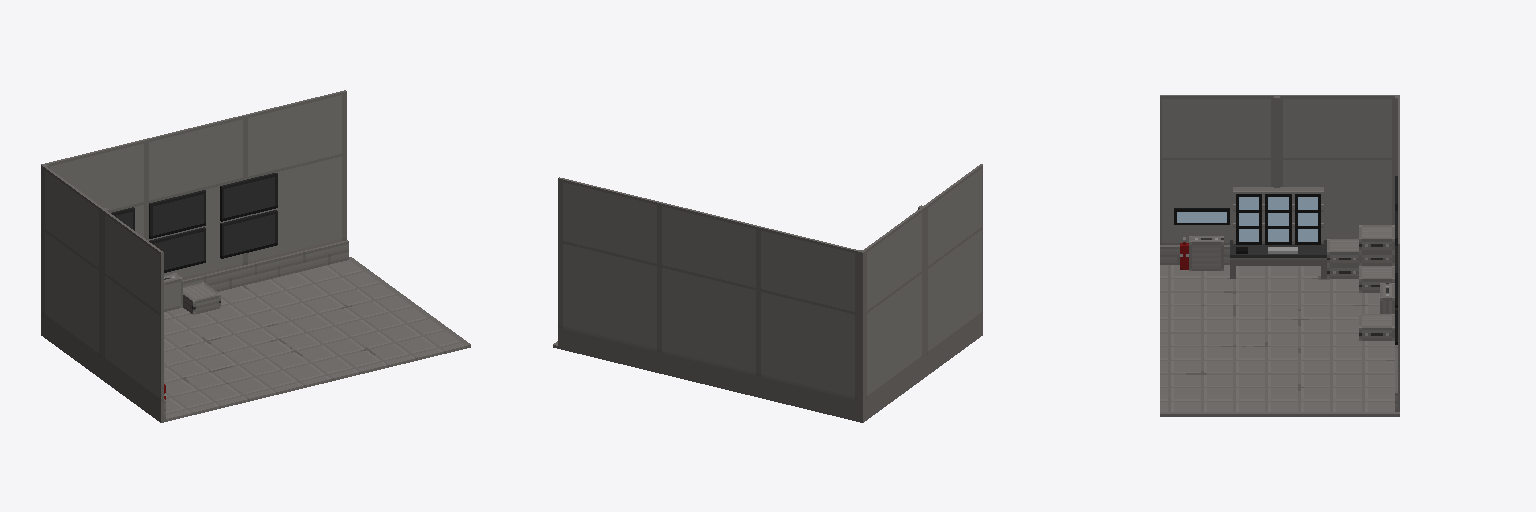
3 views of the same model, side by side, from view 1: azimuth 30°, elevation 25°; view 2: azimuth 150°, elevation 25°; view 3: azimuth 270°, elevation 25° (orthographic).
Visible parts, largest first — view 1: object 1; view 2: object 1; view 3: object 1.
Part boxes in pixels (bbox=[...]): object 1: bbox=[41, 90, 470, 422]; object 1: bbox=[553, 164, 982, 422]; object 1: bbox=[1160, 95, 1399, 416].
Size of the model in its own units: 12.2 by 6.4 by 8.2.
Materials: 1 (1 with a texture image).